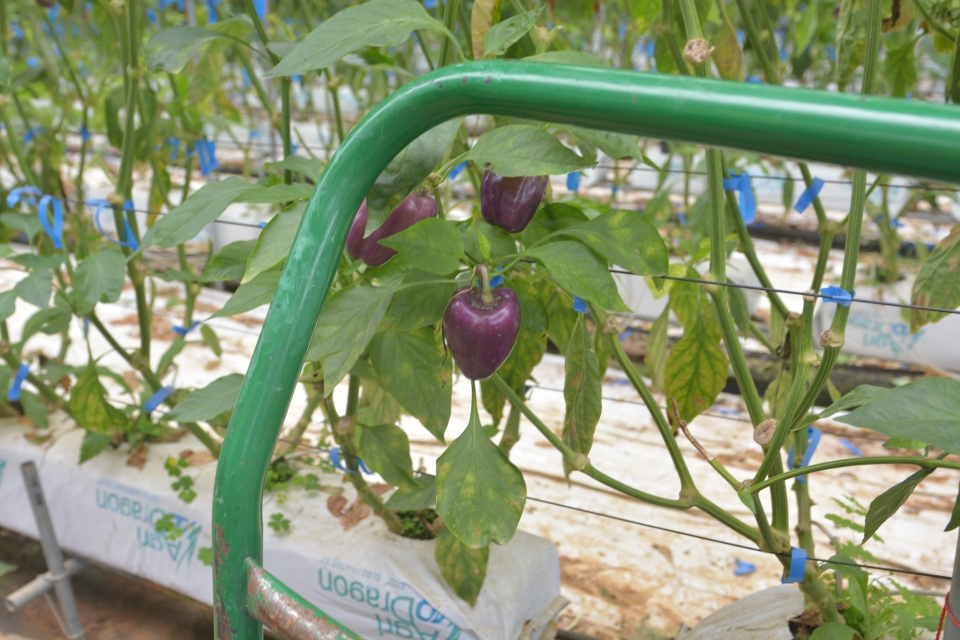fruit: (442, 282, 524, 381), (344, 184, 439, 268), (477, 162, 549, 232)
pedicle: (469, 287, 503, 312)
